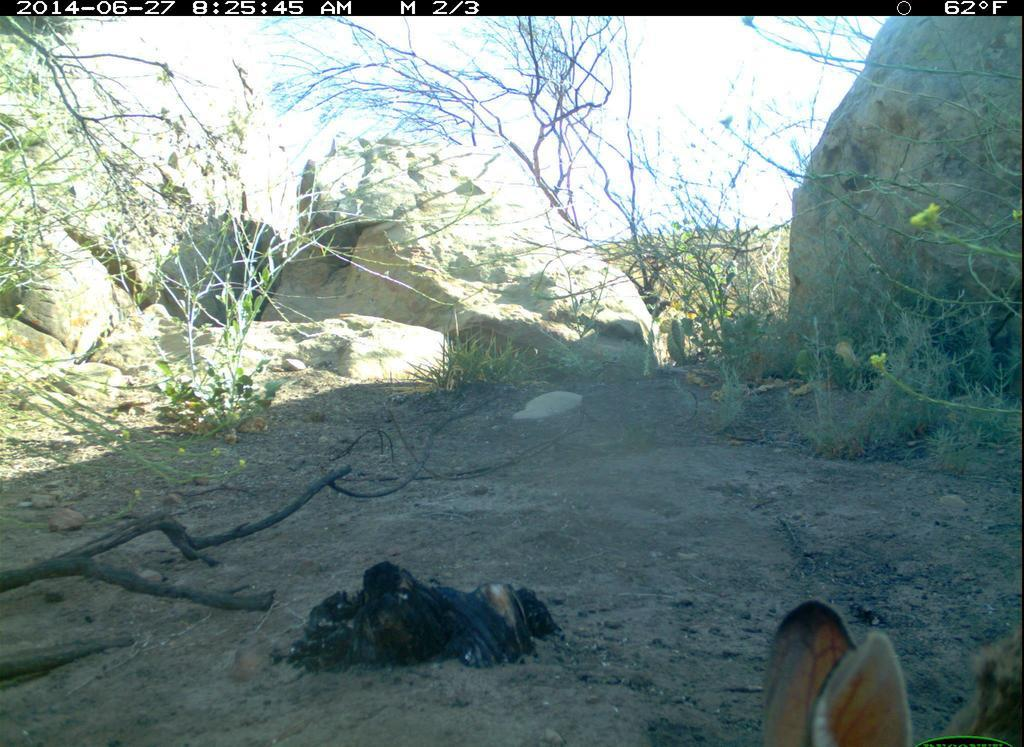rabbit: (747, 588, 934, 747)
